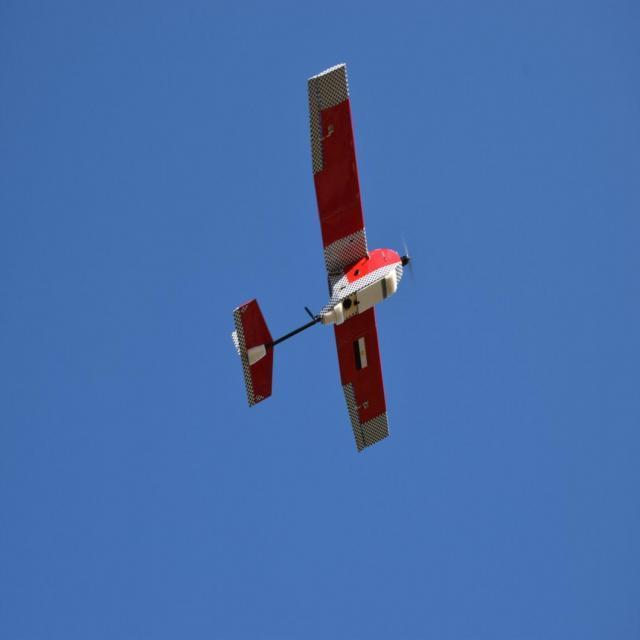iha: (230, 63, 411, 452)
